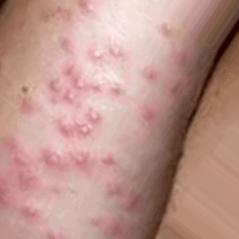Fleas: (90, 216, 121, 238), (16, 167, 39, 191), (42, 150, 67, 169), (47, 74, 68, 96), (125, 192, 146, 212), (171, 46, 190, 66), (17, 95, 36, 115), (55, 34, 76, 52), (12, 153, 37, 167), (142, 65, 160, 83), (106, 45, 126, 61), (0, 185, 13, 205), (77, 120, 93, 136), (0, 136, 16, 152), (102, 178, 117, 195), (70, 151, 88, 165), (86, 108, 101, 124), (141, 107, 156, 122), (22, 205, 37, 219), (162, 22, 175, 37), (100, 152, 115, 165), (109, 81, 125, 93), (75, 79, 90, 91), (65, 65, 78, 78), (62, 120, 74, 134), (91, 81, 104, 92), (91, 49, 101, 59), (66, 93, 74, 100)
